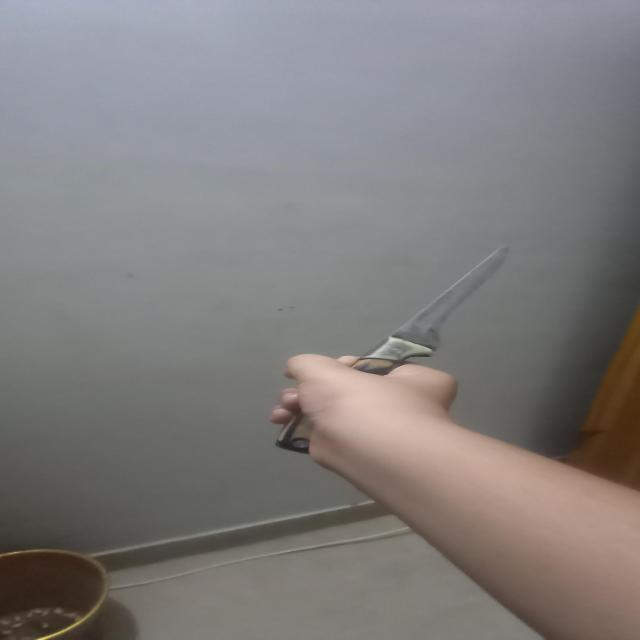Knife: (276, 245, 514, 451)
Person: (278, 351, 640, 640)
